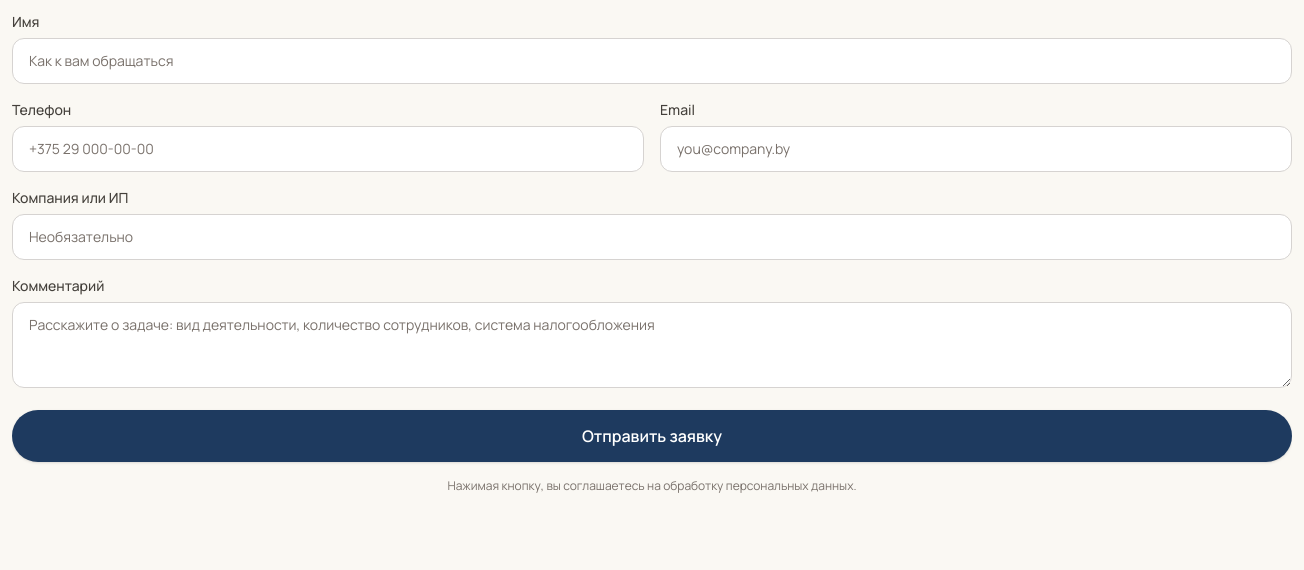
Test: OrderForm › shows the server error message on failure
Type "Иван" into the field labelled "Имя". click: (652, 61)
box: [12,38,1292,84]
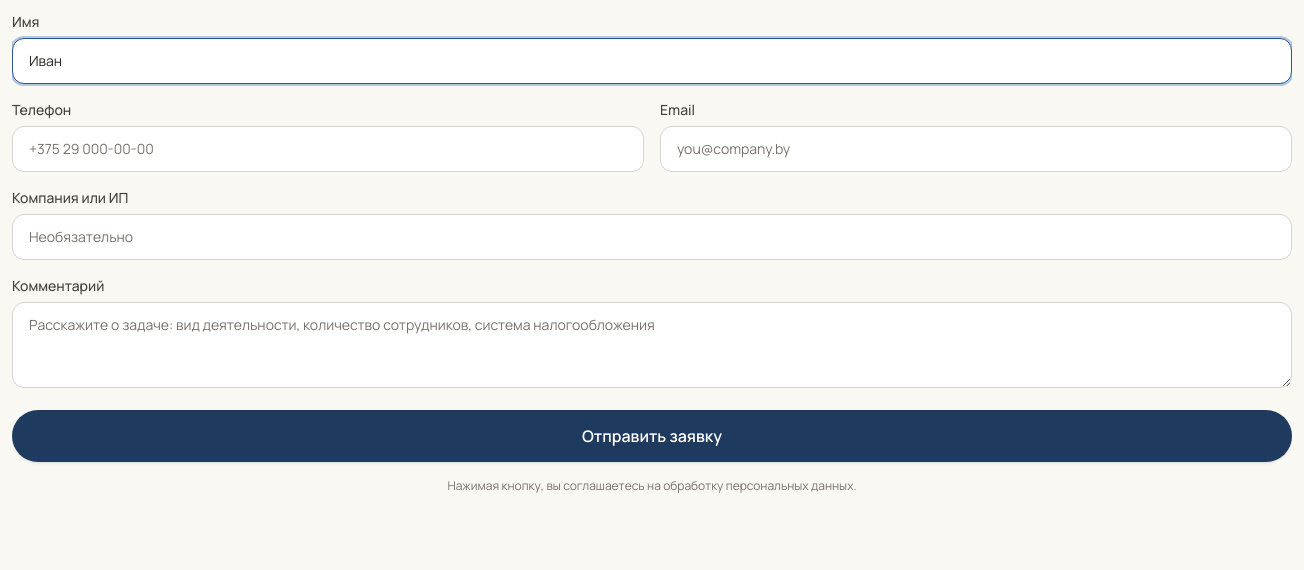
Type "+375 29 123-45-67" into the field labelled "Телефон". click: (328, 149)
box: [12,126,644,172]
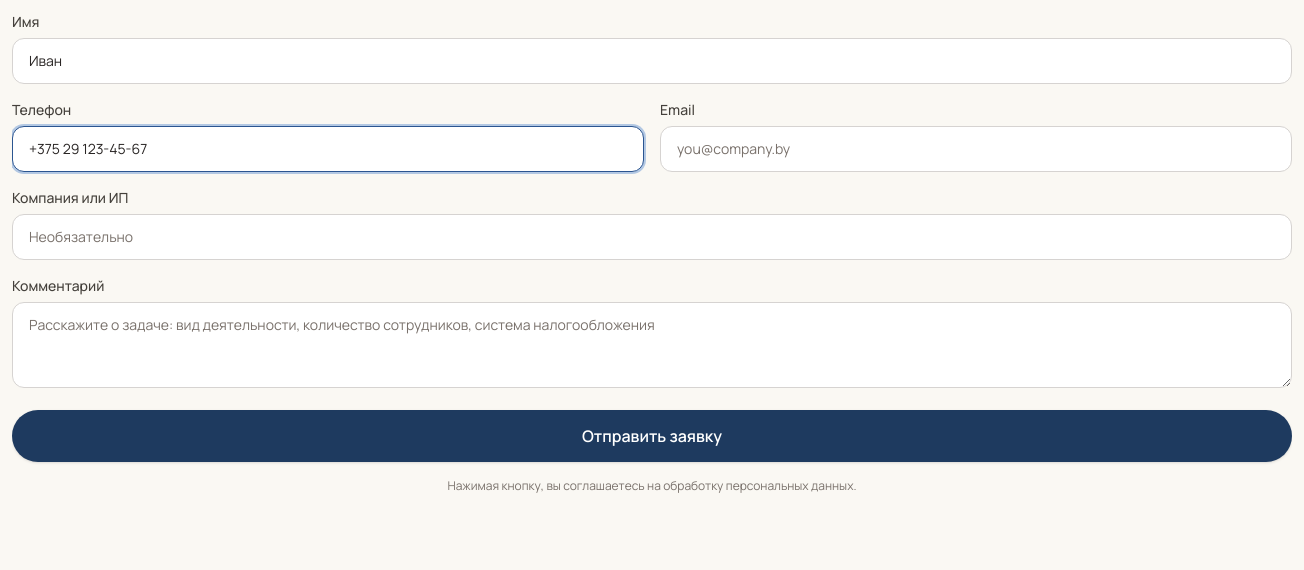
Type "ivan@example.com" into the field labelled "Email". click: (976, 149)
box: [660,126,1292,172]
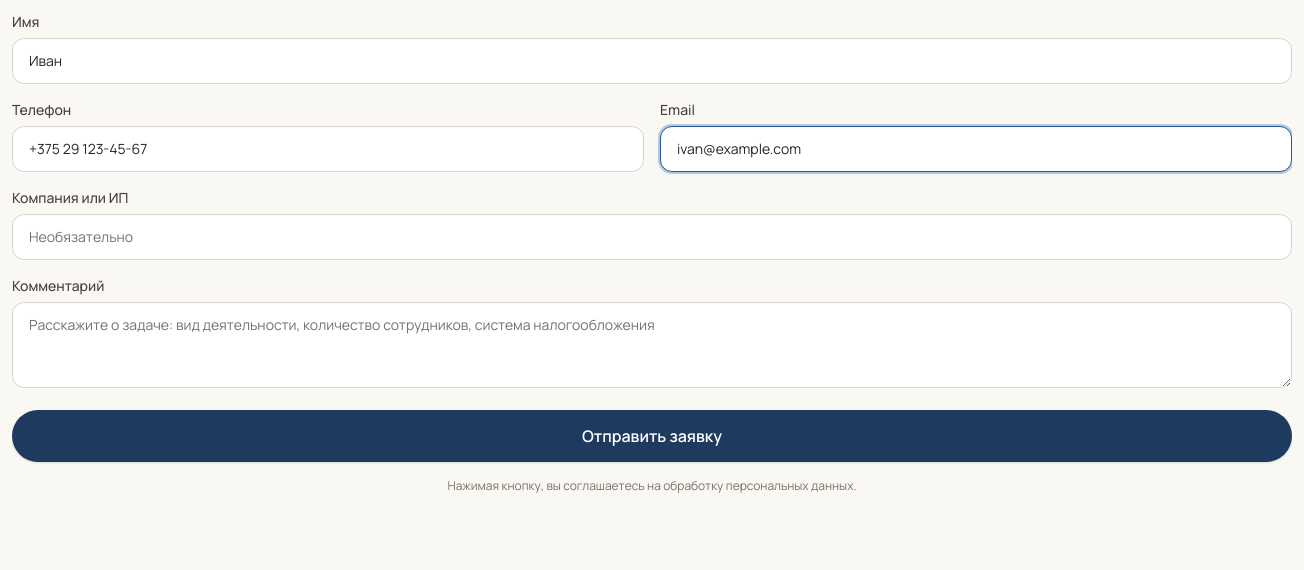
Click the button "Отправить заявку". click: (652, 436)
box: [12,410,1292,462]
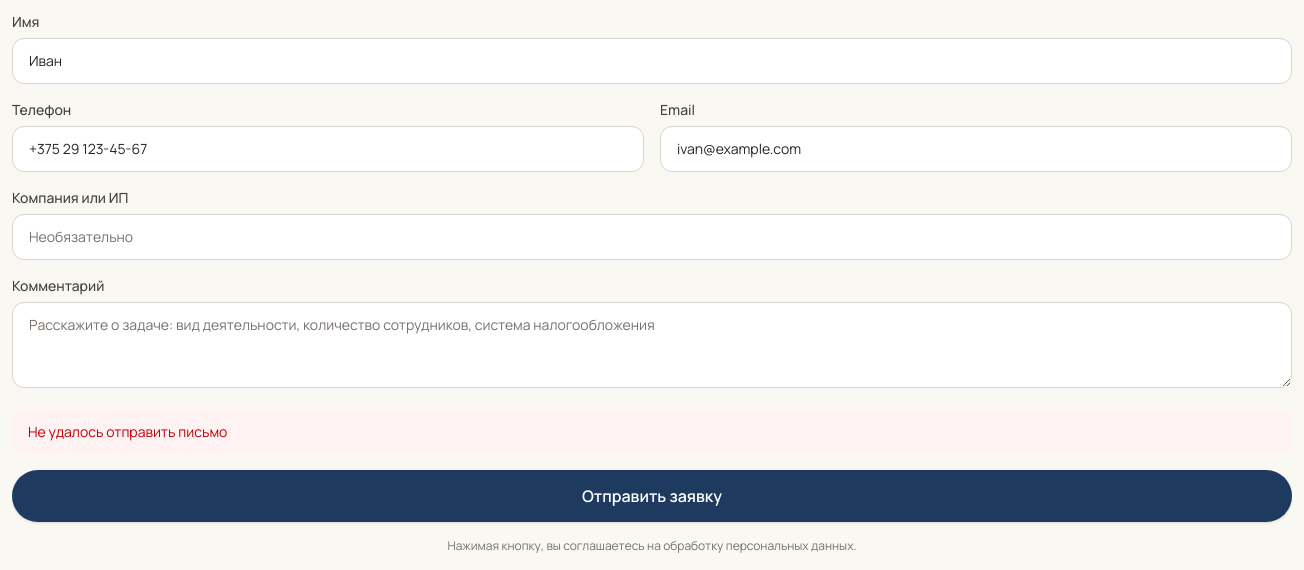
Expected: the message reads "Не удалось отправить письмо", [28,422,227,441]
